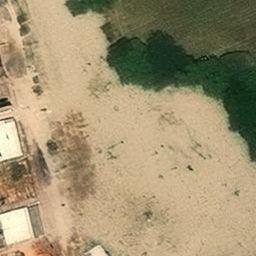manzanas: (2, 204, 42, 245)
